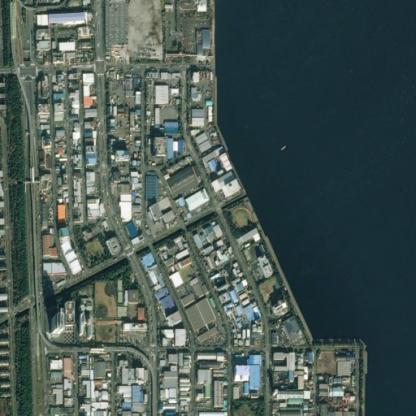ship: (280, 143, 285, 149)
